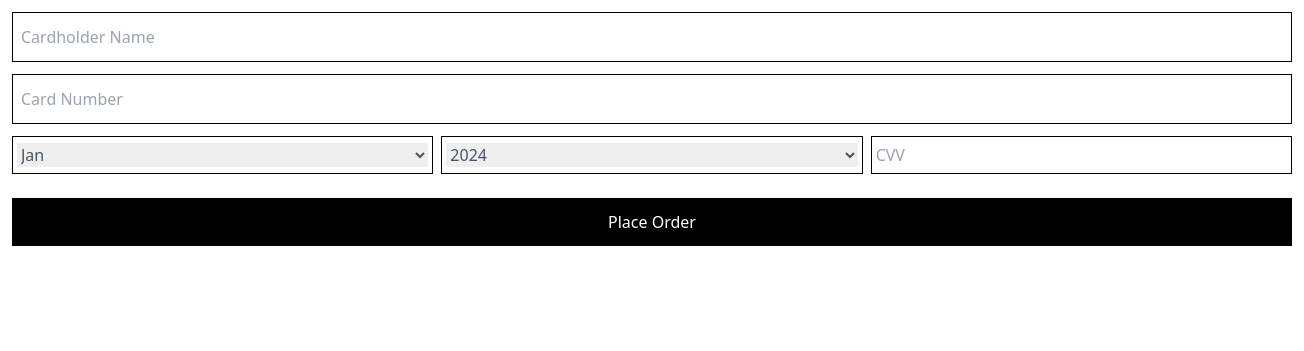
Payment Details (Payment Form) Test › Should Show Error Messages when Empty Form Submitted
The image size is (1304, 351).
Click the button "Place Order".
click(652, 222)  # box [12,198,1292,246]
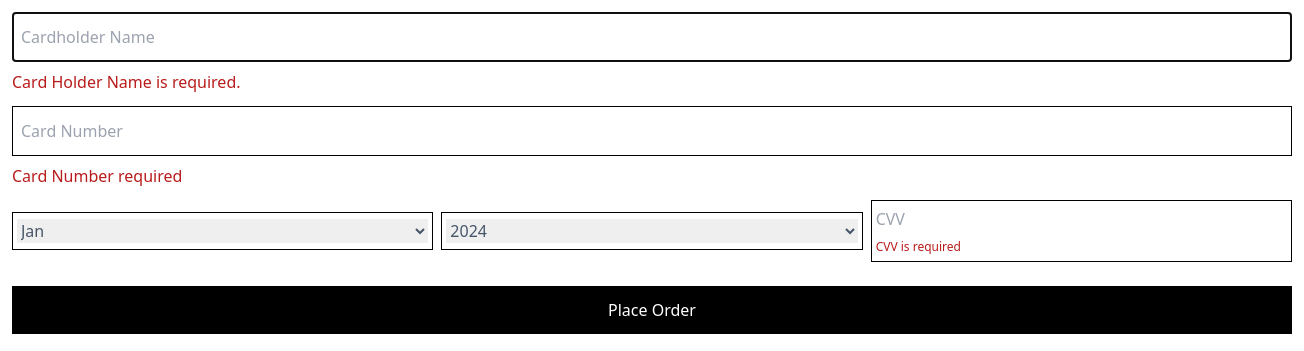
Check: the number of messages is 3, box [12,71,240,93]; [12,165,182,187]; [876,238,961,255]
